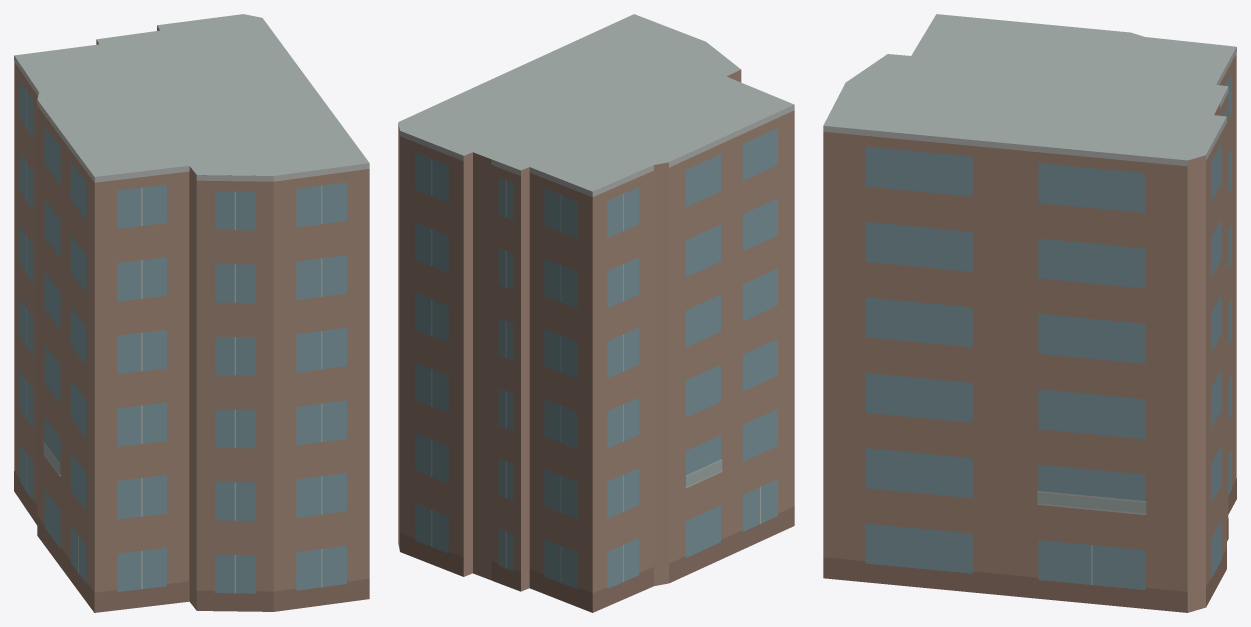
File: survey-upis-32662520.glb
3 views of the same model, side by side, from view 1: azimuth 30°, elevation 25°; view 2: azimuth 150°, elevation 25°; view 3: azimuth 270°, elevation 25° (orthographic). The views are drawn at different scales.
Visible parts, largest first — view 1: survey-upis-32662520.tmp; view 2: survey-upis-32662520.tmp; view 3: survey-upis-32662520.tmp.
Boxes of the visible parts, <box> form: survey-upis-32662520.tmp: <box>14,14,369,612</box>; survey-upis-32662520.tmp: <box>398,14,794,612</box>; survey-upis-32662520.tmp: <box>823,14,1236,612</box>.
Size of the model in its own units: 12.92 by 18.6 by 15.42.
